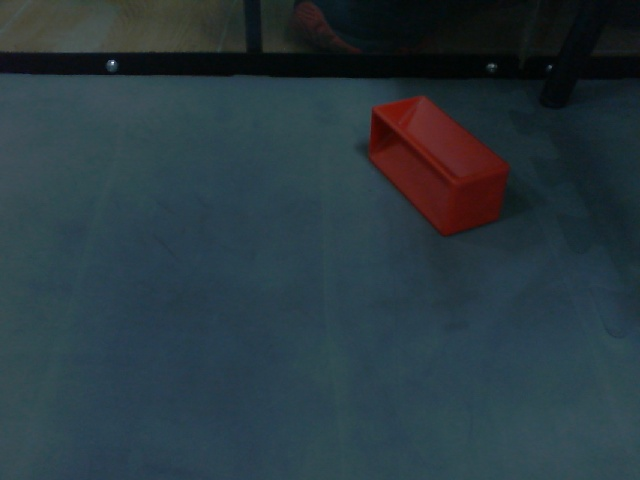RedSample: (365, 93, 512, 238)
